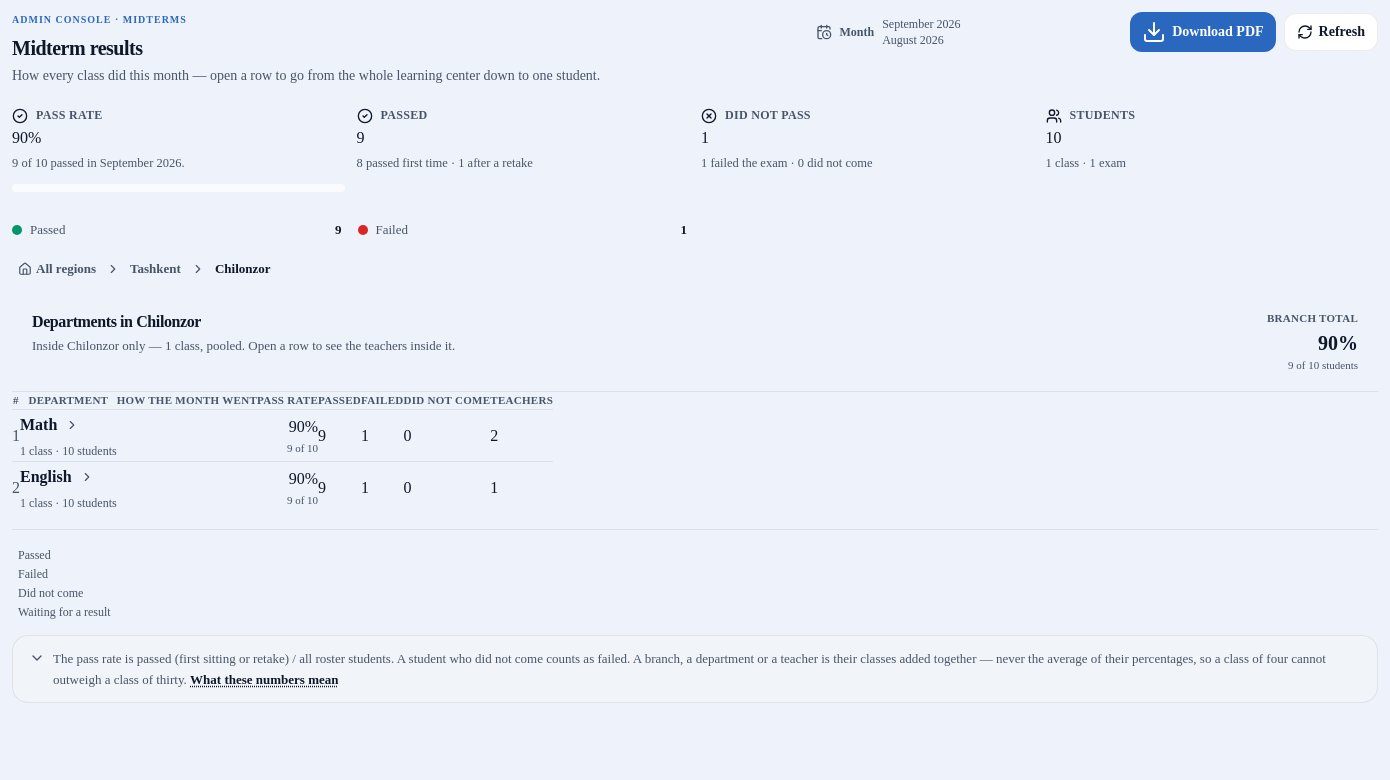
MidtermStatsPage › descends a level per click and comes back up through the breadcrumb
What coordinates should you click on to do the following:
click the button "Math"
I would click on:
 (64, 425)
Its box is [16,410,113,440].
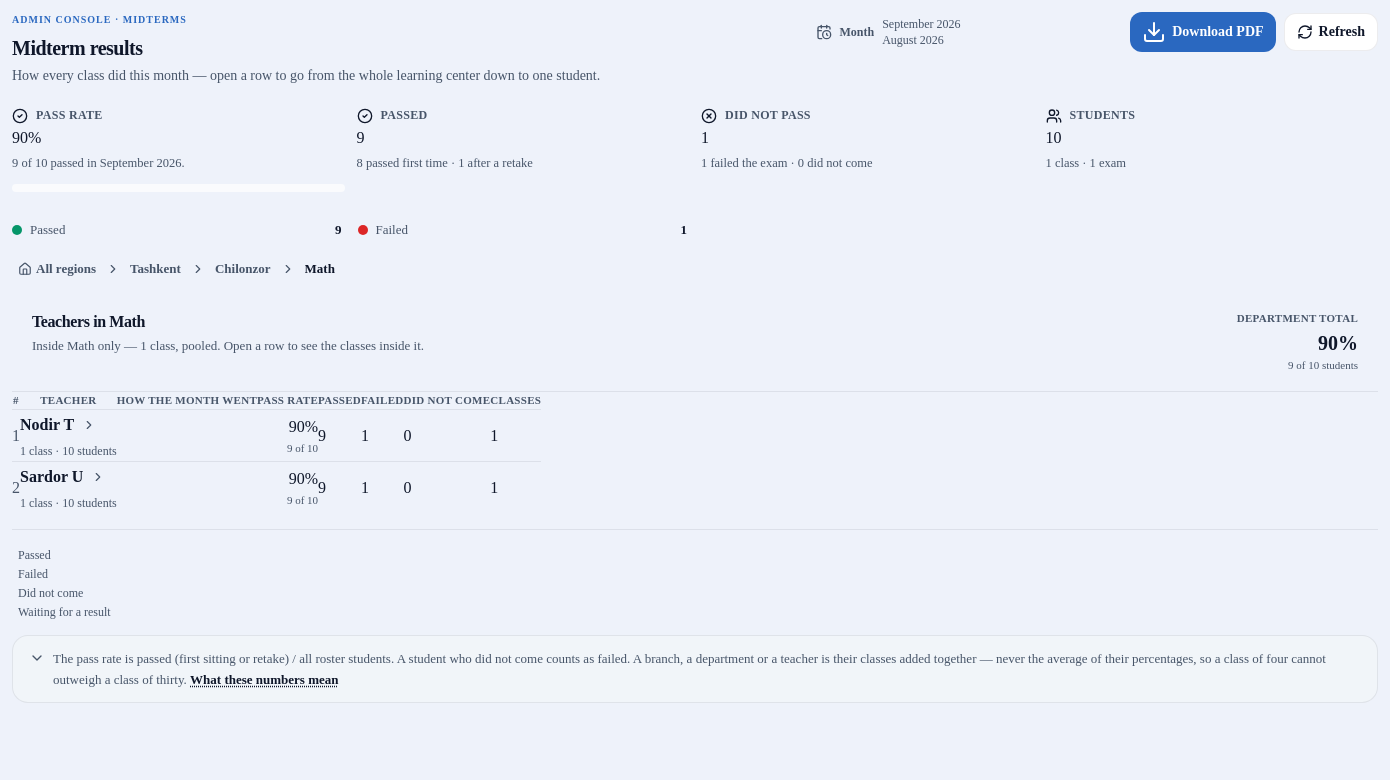
expect the text "Teachers in Math" is shown: met, box [32,313,145,330]
expect the text "Nodir T" is shown: met, box [20,412,96,438]
expect the button "Nodir T" is shown: met
What coordinates should you click on to do the following:
click the button "Nodir T"
I would click on:
 (64, 425)
Its box is [16,410,113,440].
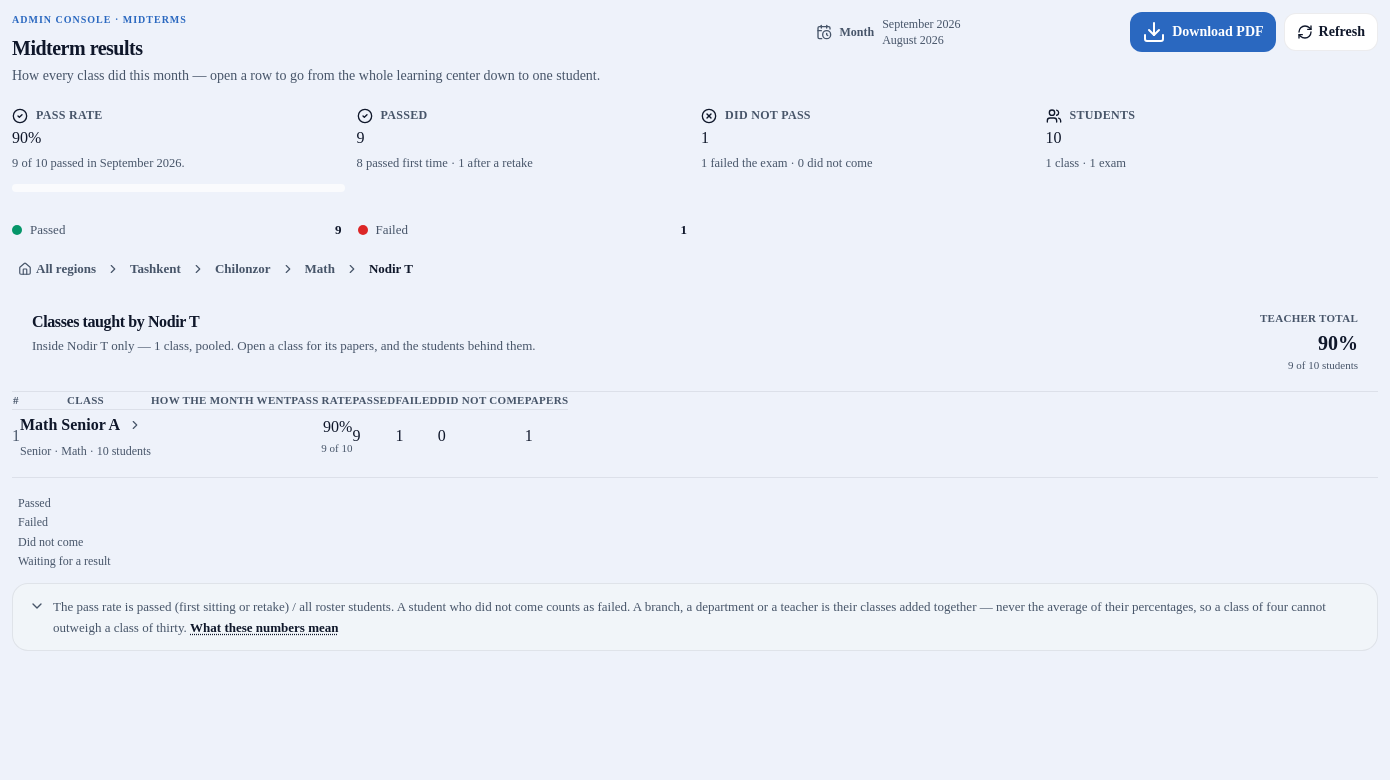
expect the text "Classes taught by Nodir T" is shown: met, box [32,313,199,330]
expect the text "Math Senior A" is shown: met, box [20,412,142,438]
What coordinates should you click on to do the following:
click the button "Chilonzor"
I would click on:
 (243, 269)
Its box is [209,257,276,282].
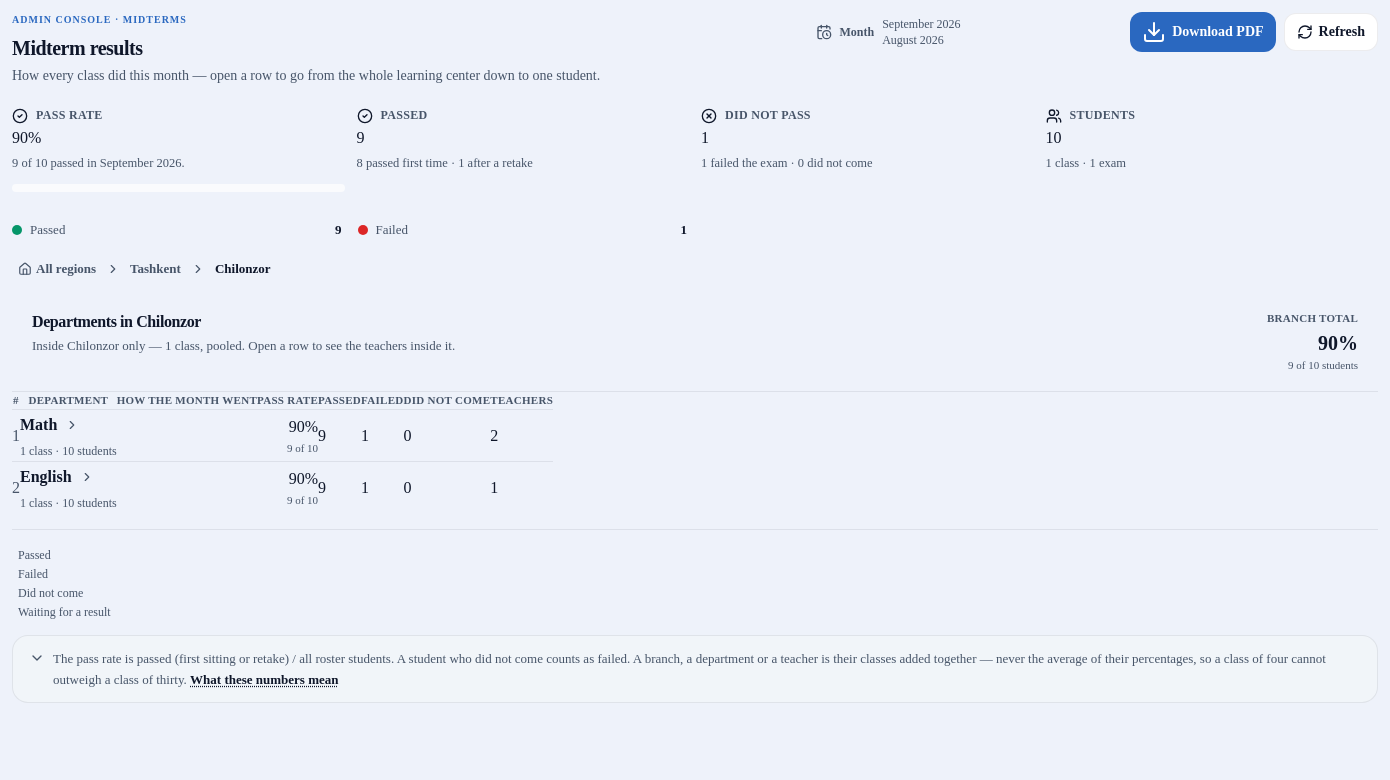
expect the text "Departments in Chilonzor" is shown: met, box [32,313,201,330]
expect the text "Nodir T" is gone: met
